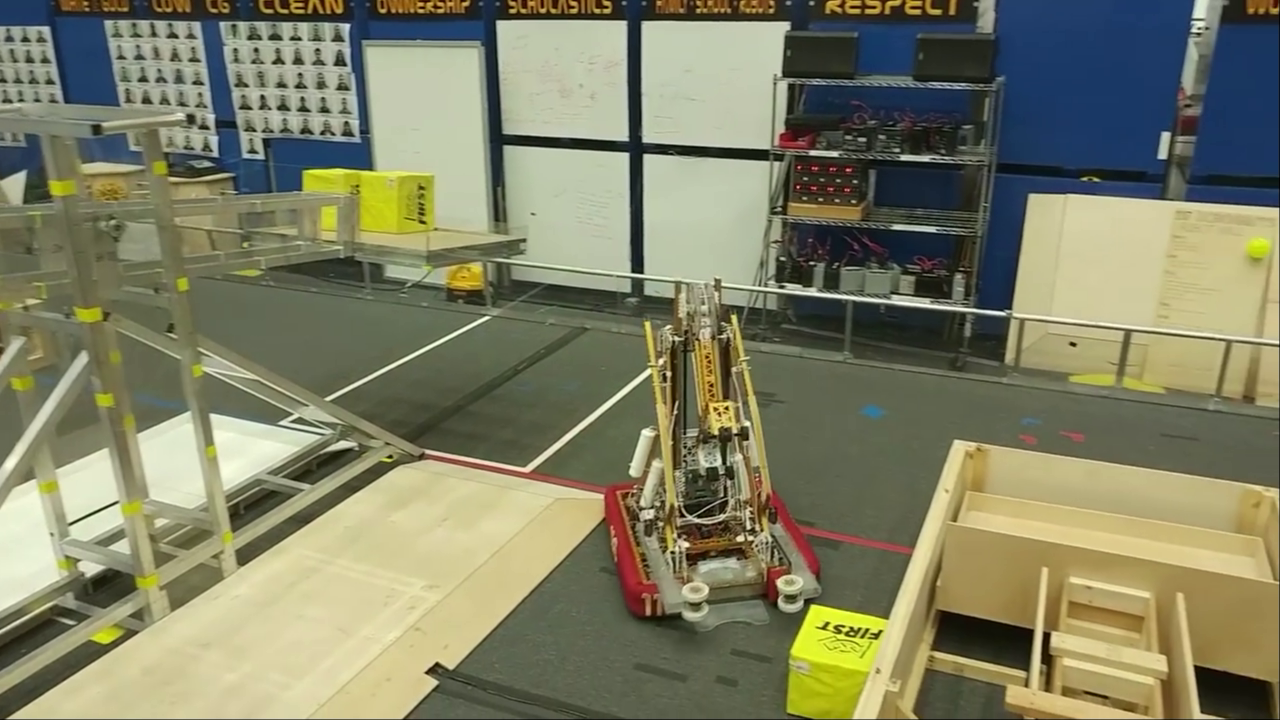cube: (786, 604, 895, 720), (301, 166, 378, 230), (361, 173, 435, 235)
